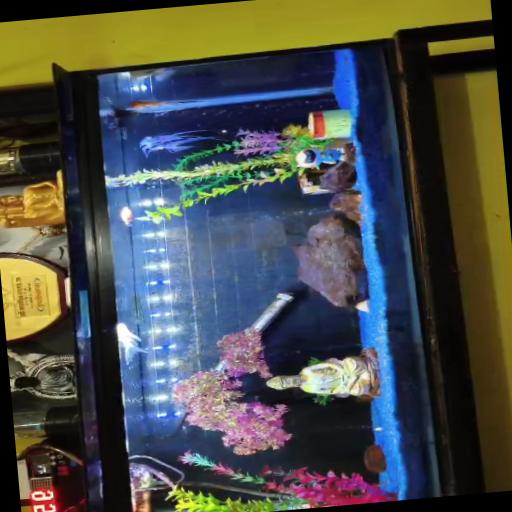Fish: (140, 130, 218, 156), (117, 323, 147, 364), (130, 68, 176, 82), (130, 100, 198, 109), (121, 207, 134, 226)
